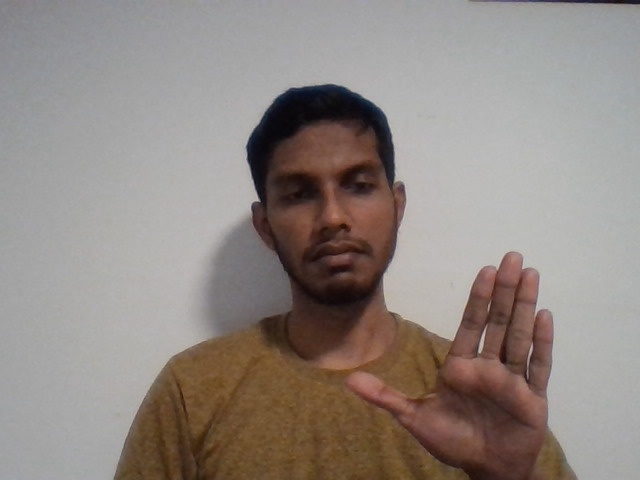hello: (338, 246, 602, 476)
